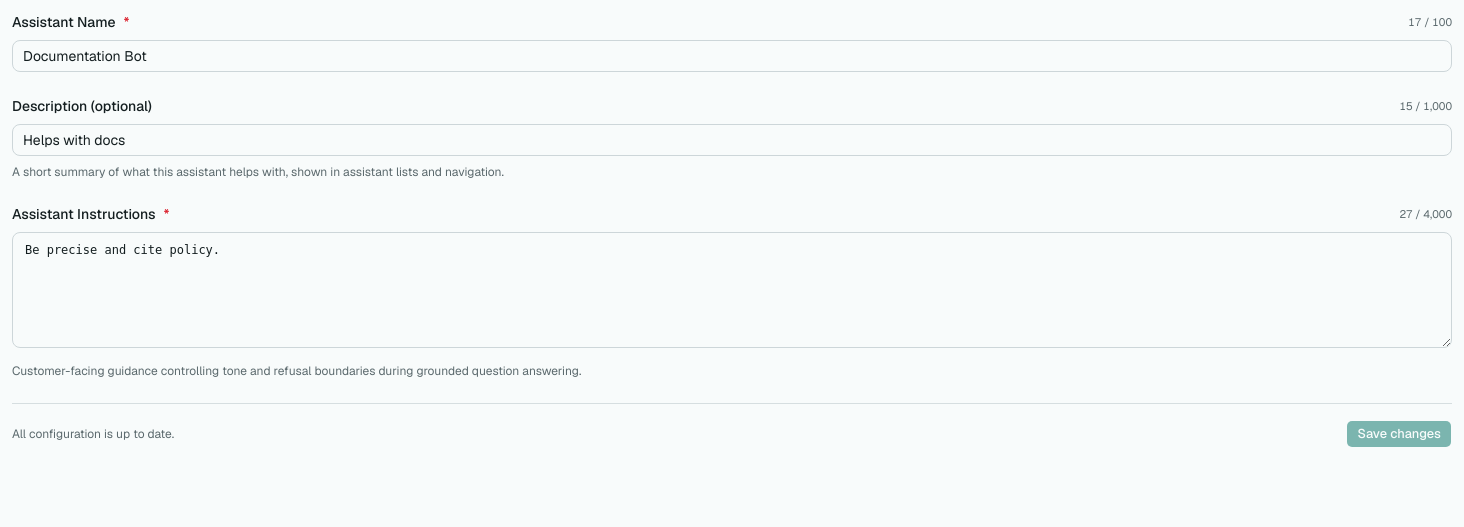
AssistantSettingsForm › handles 403 Forbidden error with actionable message
Type " extra" into the field labelled "Assistant Name *".
click(732, 56); type(" extra")  # box [12,40,1452,72]
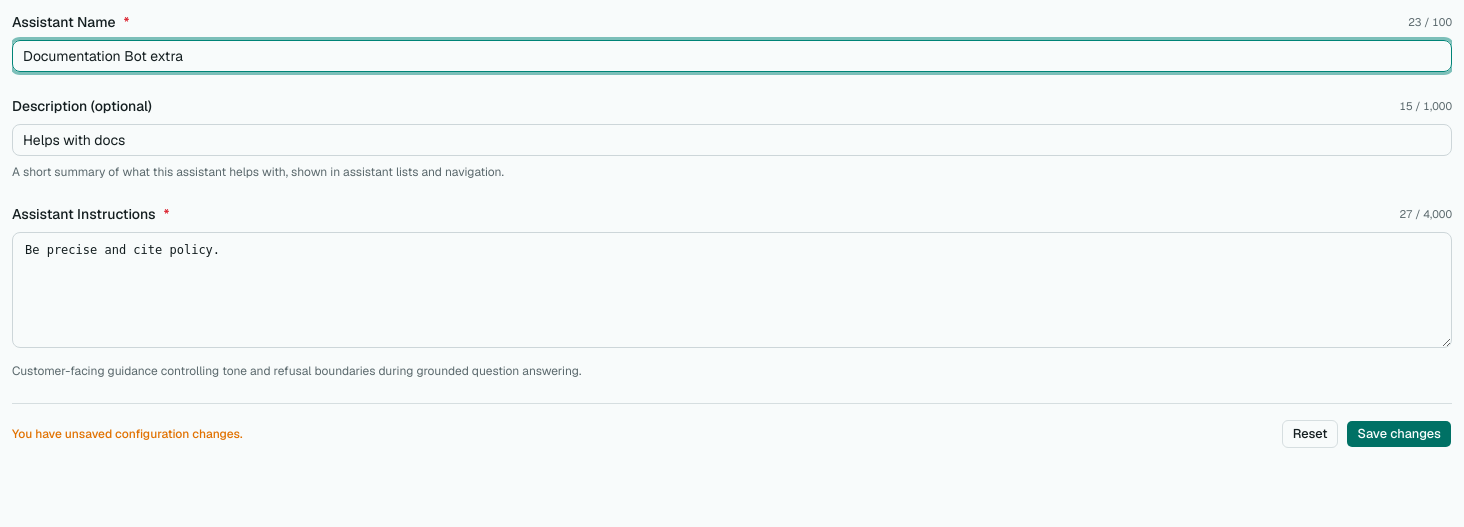
Click the button "Save changes".
click(1399, 434)  # box [1346,420,1452,448]
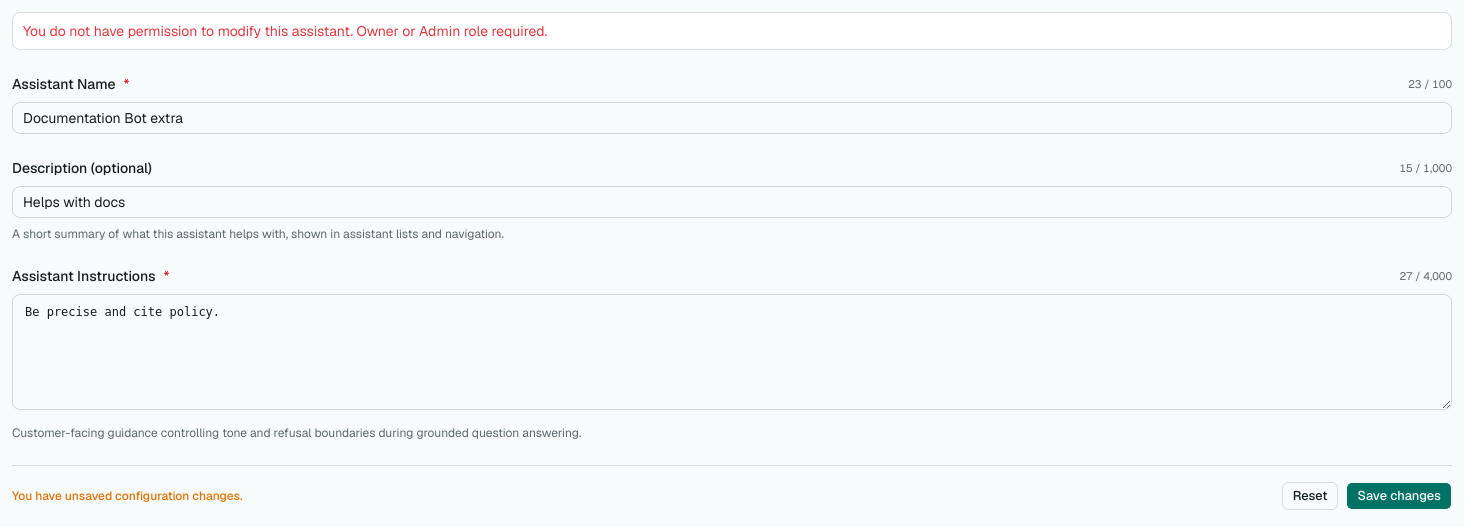
Now the text "You do not have permission to modify this assistant. Owner or Admin role required." is shown, box [23,22,547,40]
